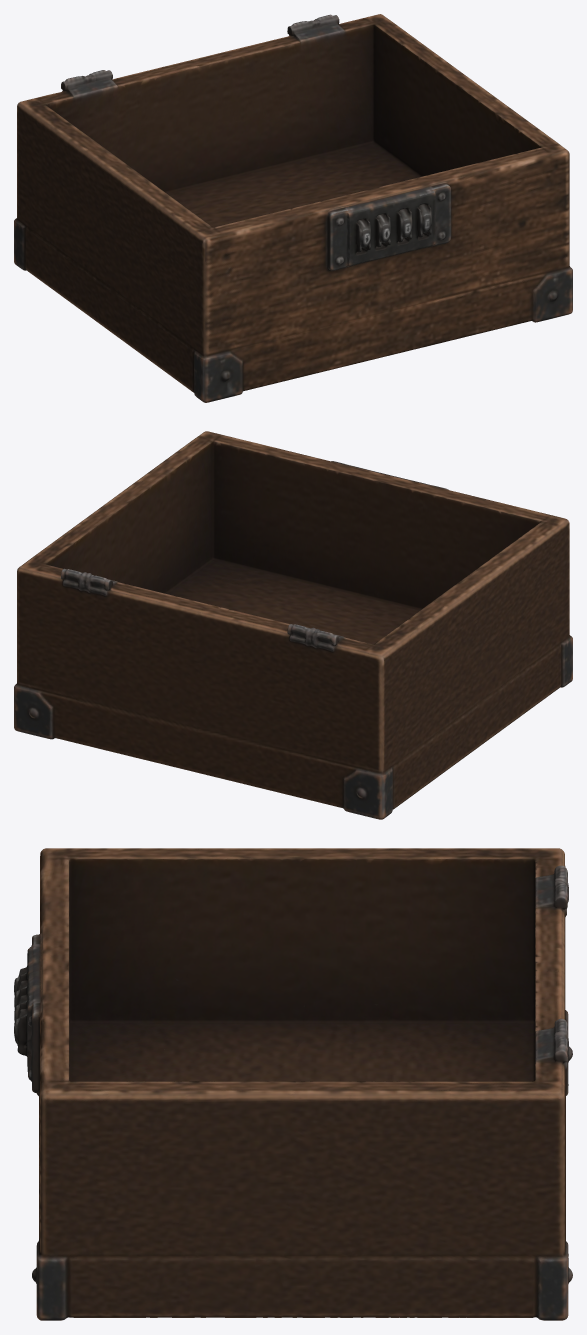
Rendered from Meshy_AI_Wooden_Lockbox_1010103147_texture.fbx.
The picture shows the model from 3 angles, top to bottom: view 1: azimuth 30°, elevation 25°; view 2: azimuth 150°, elevation 25°; view 3: azimuth 270°, elevation 25°; orthographic projection. The views are drawn at different scales.
Parts seen in each view (by area): view 1: Mesh_0; view 2: Mesh_0; view 3: Mesh_0.
Part boxes in pixels (x1=…): Mesh_0: x1=14, y1=14, x2=572, y2=402; Mesh_0: x1=14, y1=431, x2=572, y2=819; Mesh_0: x1=14, y1=848, x2=572, y2=1320.
Size of the model in its own units: 188 by 84.55 by 177.
Materials: 1 (1 with a texture image).
